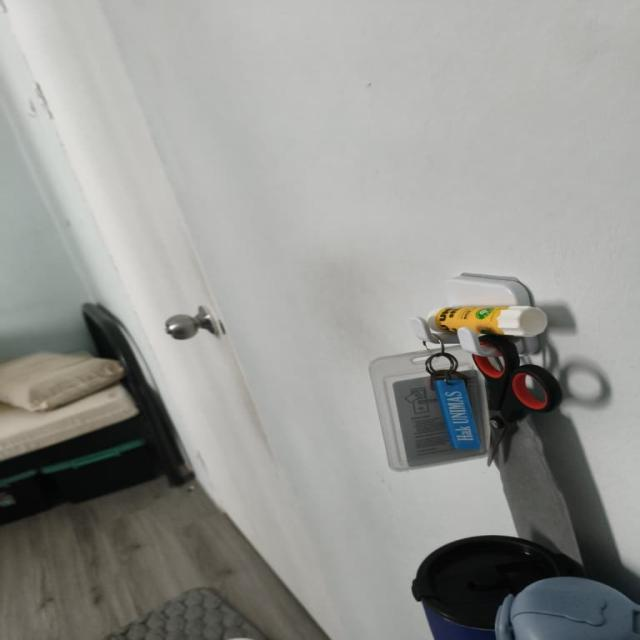glue: (428, 306, 548, 337)
scissor: (472, 334, 562, 465)
